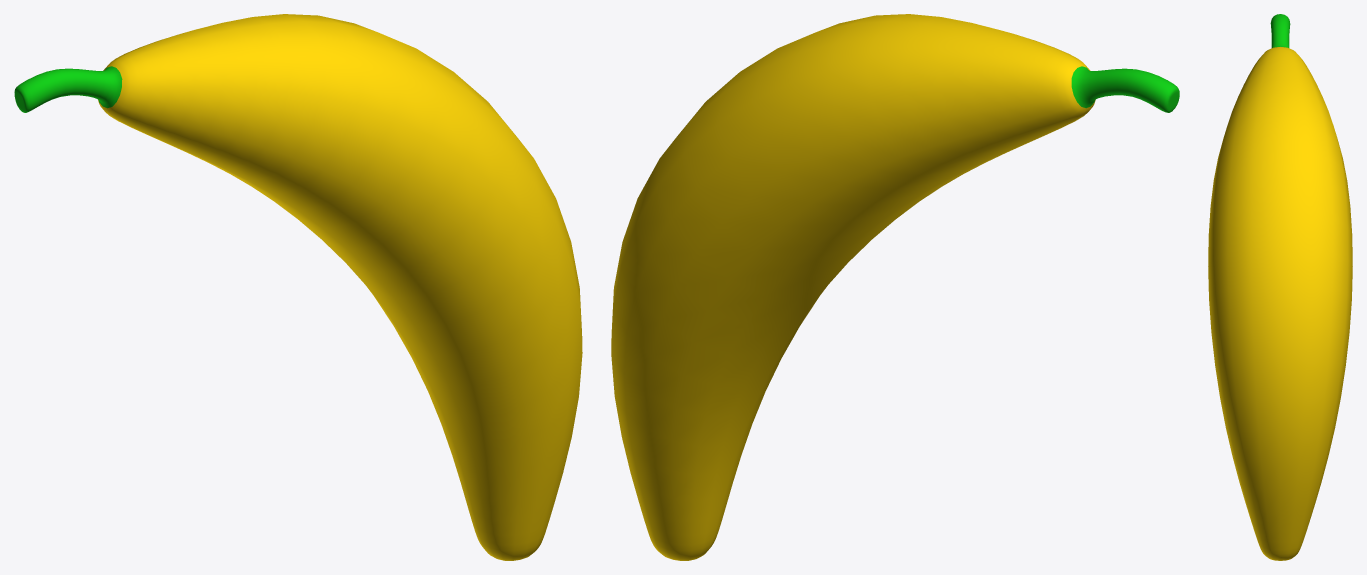
File: Banana.fbx
The picture shows the model from 3 angles, left to right: view 1: azimuth 30°, elevation 25°; view 2: azimuth 150°, elevation 25°; view 3: azimuth 270°, elevation 25°; orthographic projection. The views are drawn at different scales.
Visible parts, largest first — view 1: Banana_Body; view 2: Banana_Body; view 3: Banana_Body.
Boxes of the visible parts, left/top/right/bottom form: Banana_Body: left=14, top=14, right=582, bottom=560; Banana_Body: left=611, top=14, right=1179, bottom=560; Banana_Body: left=1208, top=14, right=1352, bottom=560.
Size of the model in its own units: 3.59 by 1.24 by 3.69.
